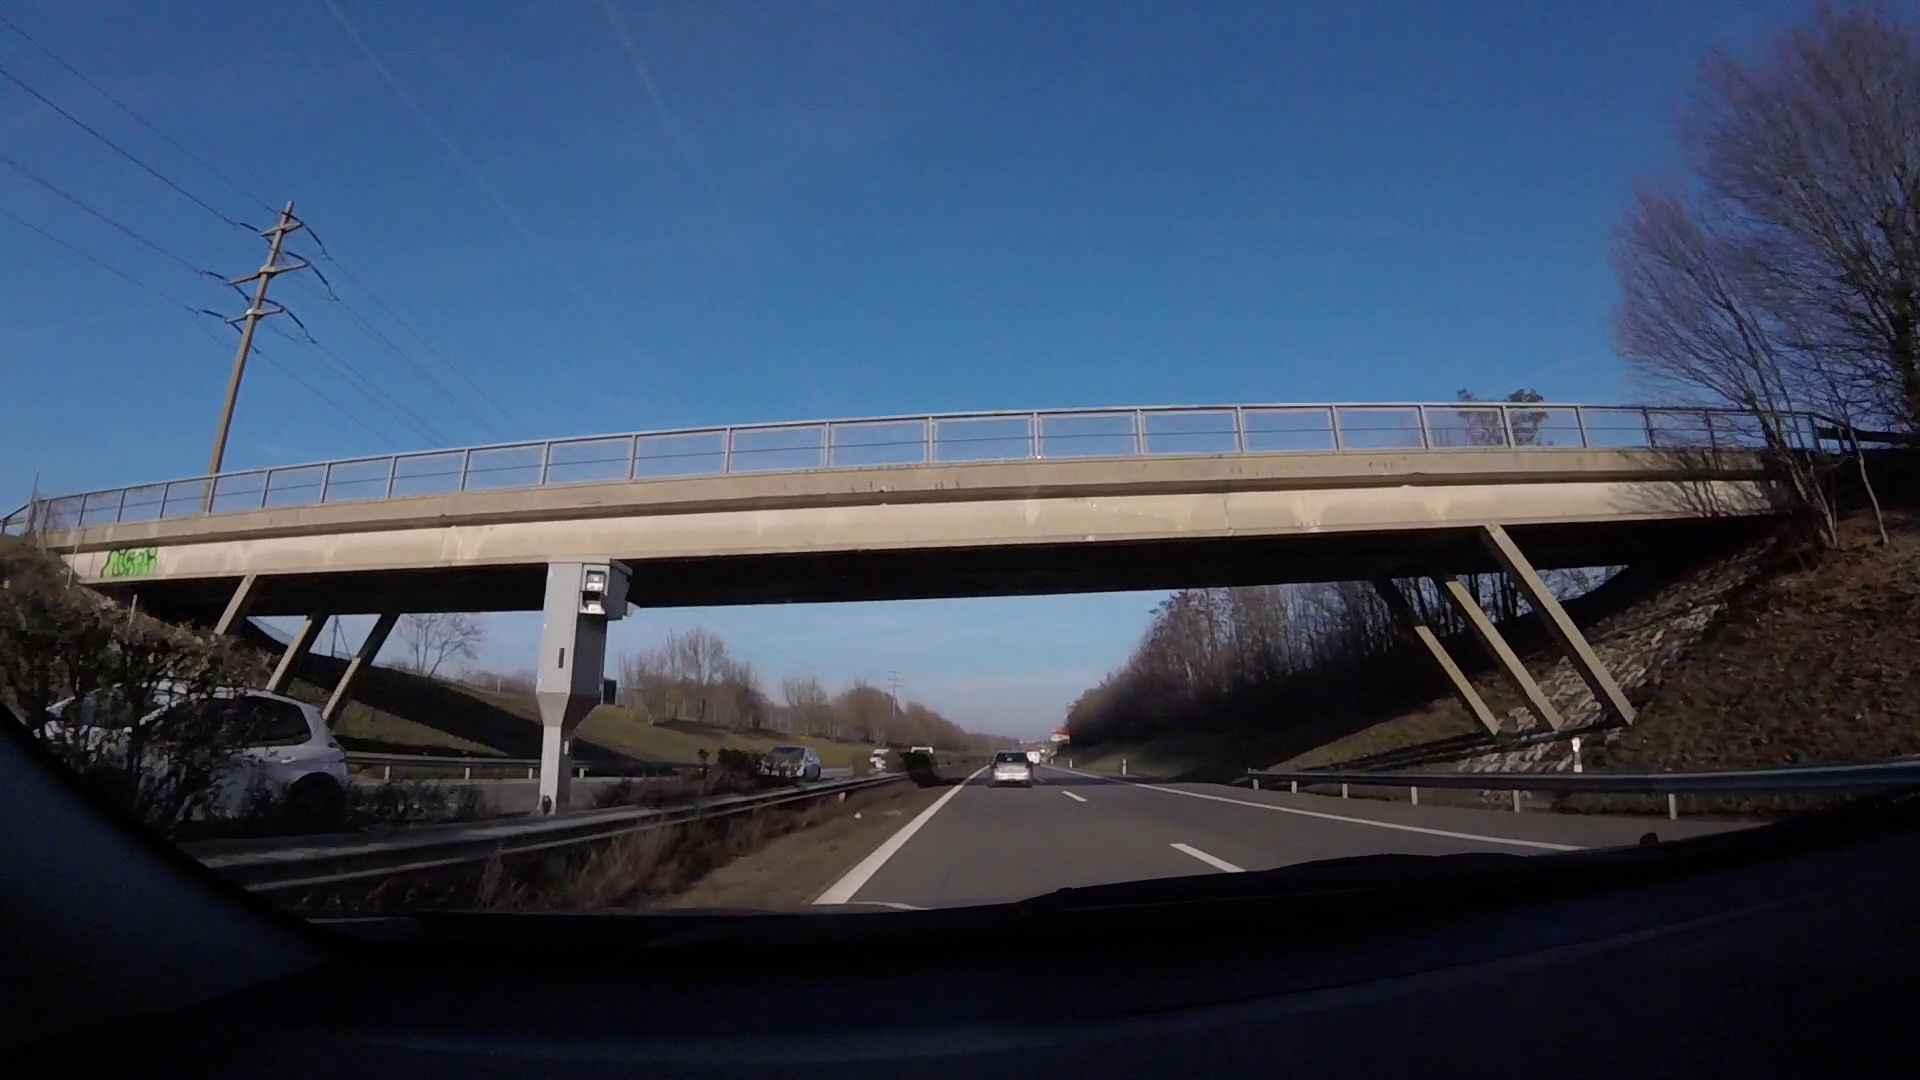radar: (537, 553, 636, 822)
